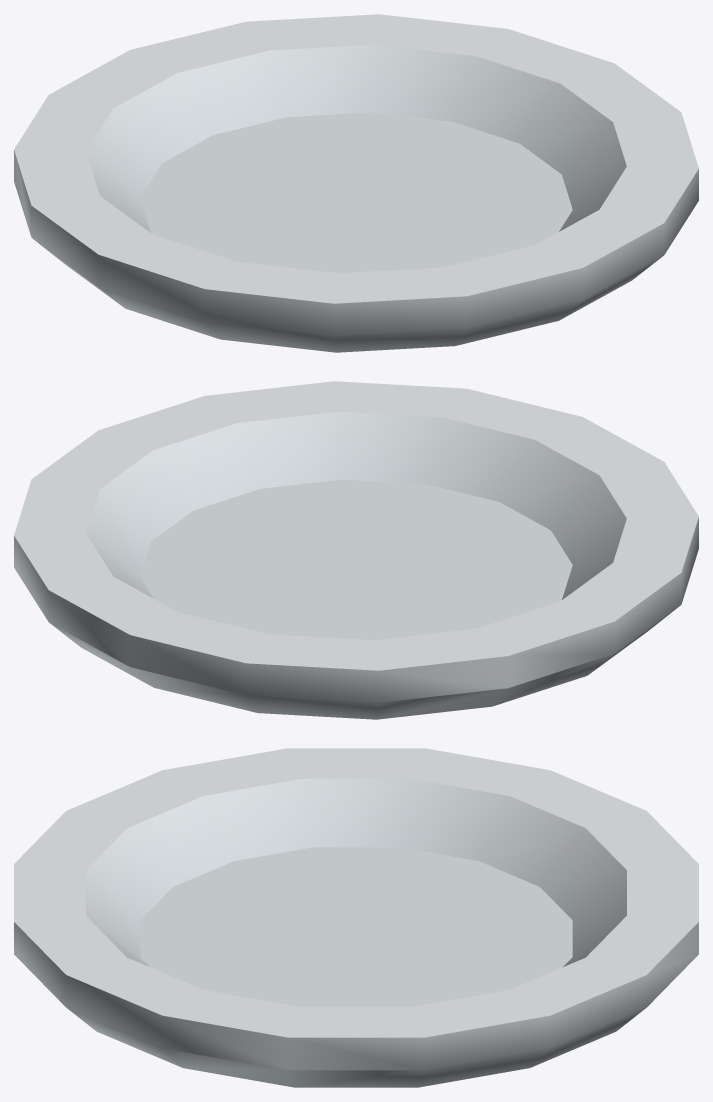
The model's file is kr_plate.glb.
The picture shows the model from 3 angles, top to bottom: view 1: azimuth 30°, elevation 25°; view 2: azimuth 150°, elevation 25°; view 3: azimuth 270°, elevation 25°; orthographic projection.
Visible parts, largest first — view 1: plate; view 2: plate; view 3: plate.
Part boxes in pixels (bbox=[...]): plate: bbox=[14, 14, 698, 352]; plate: bbox=[14, 381, 698, 719]; plate: bbox=[14, 748, 698, 1087].
Bounding box in the file's own units: 0.95 × 0.1 × 0.95.
1 material, 1 textured.
